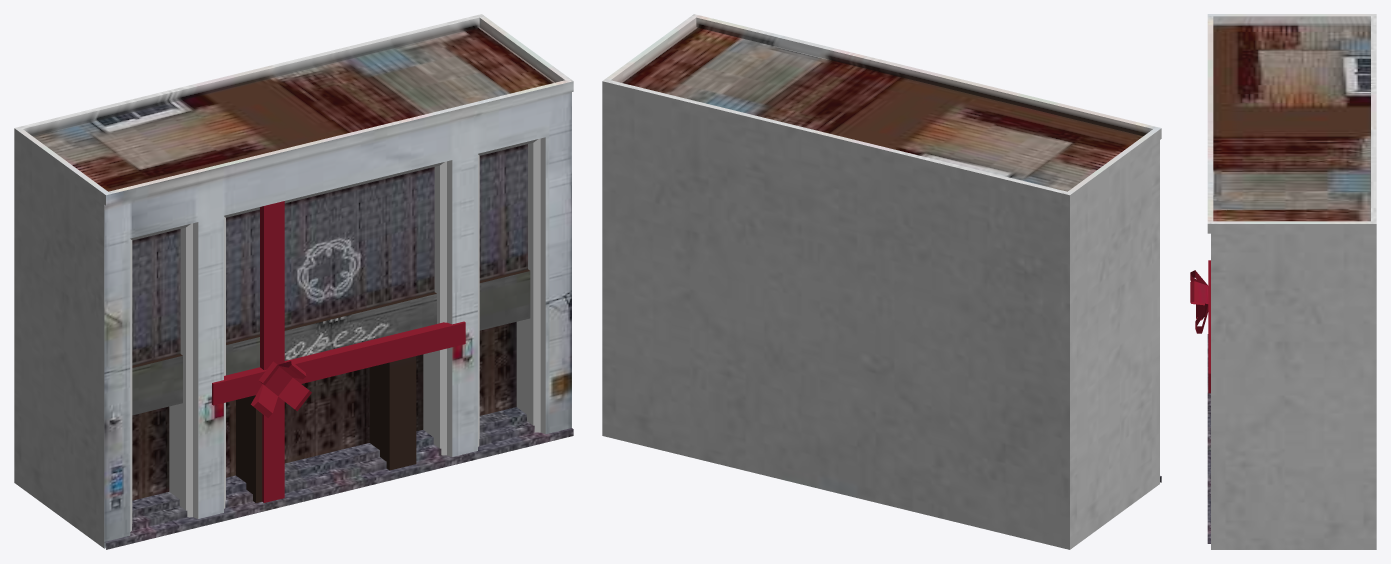
3 views of the same model, side by side, from view 1: azimuth 30°, elevation 25°; view 2: azimuth 150°, elevation 25°; view 3: azimuth 270°, elevation 25° (orthographic). The views are drawn at different scales.
Parts seen in each view (by area): view 1: HN956___The_Opera; view 2: HN956___The_Opera; view 3: HN956___The_Opera.
Part boxes in pixels (x1,y1,x2,y2): HN956___The_Opera: (14,14,573,549); HN956___The_Opera: (602,14,1161,549); HN956___The_Opera: (1190,14,1376,549).
Bounding box in the file's own units: 15 × 10.87 × 5.62.
1 material, 1 textured.
